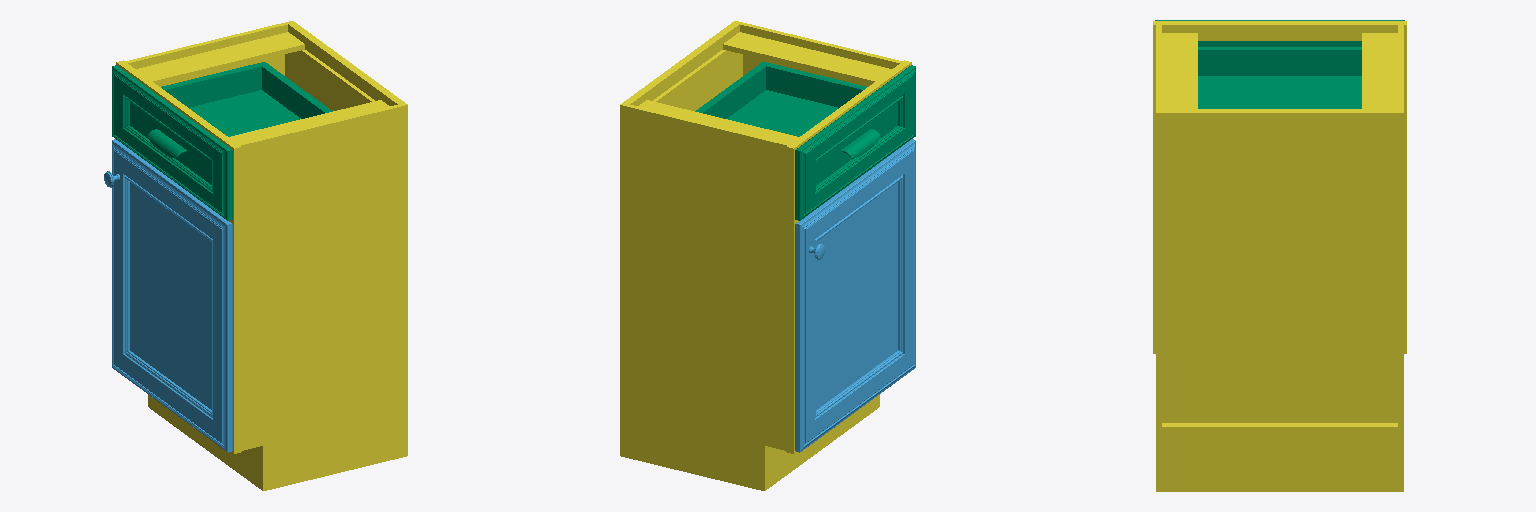
robot.urdf — partnet_2bda2392d5715d16c59350d819542ec7:
<?xml version="1.0" ?>
<robot name="partnet_2bda2392d5715d16c59350d819542ec7">
	<link name="base"/>
	<link name="link_0">
		<visual name="cabinet_door_surface-14">
			<origin xyz="-0.45054851447681477 -0.3763149976730347 -0.3973950893027823"/>
			<geometry>
				<mesh filename="textured_objs/original-56.obj"/>
			</geometry>
		</visual>
		<visual name="cabinet_door_surface-14">
			<origin xyz="-0.45054851447681477 -0.3763149976730347 -0.3973950893027823"/>
			<geometry>
				<mesh filename="textured_objs/original-51.obj"/>
			</geometry>
		</visual>
		<visual name="cabinet_door_surface-14">
			<origin xyz="-0.45054851447681477 -0.3763149976730347 -0.3973950893027823"/>
			<geometry>
				<mesh filename="textured_objs/original-47.obj"/>
			</geometry>
		</visual>
		<visual name="cabinet_door_surface-14">
			<origin xyz="-0.45054851447681477 -0.3763149976730347 -0.3973950893027823"/>
			<geometry>
				<mesh filename="textured_objs/original-53.obj"/>
			</geometry>
		</visual>
		<visual name="cabinet_door_surface-14">
			<origin xyz="-0.45054851447681477 -0.3763149976730347 -0.3973950893027823"/>
			<geometry>
				<mesh filename="textured_objs/original-50.obj"/>
			</geometry>
		</visual>
		<visual name="cabinet_door_surface-14">
			<origin xyz="-0.45054851447681477 -0.3763149976730347 -0.3973950893027823"/>
			<geometry>
				<mesh filename="textured_objs/original-52.obj"/>
			</geometry>
		</visual>
		<visual name="cabinet_door_surface-14">
			<origin xyz="-0.45054851447681477 -0.3763149976730347 -0.3973950893027823"/>
			<geometry>
				<mesh filename="textured_objs/original-49.obj"/>
			</geometry>
		</visual>
		<visual name="cabinet_door_surface-14">
			<origin xyz="-0.45054851447681477 -0.3763149976730347 -0.3973950893027823"/>
			<geometry>
				<mesh filename="textured_objs/original-54.obj"/>
			</geometry>
		</visual>
		<visual name="cabinet_door_surface-14">
			<origin xyz="-0.45054851447681477 -0.3763149976730347 -0.3973950893027823"/>
			<geometry>
				<mesh filename="textured_objs/original-48.obj"/>
			</geometry>
		</visual>
		<visual name="cabinet_door_surface-14">
			<origin xyz="-0.45054851447681477 -0.3763149976730347 -0.3973950893027823"/>
			<geometry>
				<mesh filename="textured_objs/original-57.obj"/>
			</geometry>
		</visual>
		<visual name="handle-15">
			<origin xyz="-0.45054851447681477 -0.3763149976730347 -0.3973950893027823"/>
			<geometry>
				<mesh filename="textured_objs/original-58.obj"/>
			</geometry>
		</visual>
		<collision>
			<origin xyz="-0.45054851447681477 -0.3763149976730347 -0.3973950893027823"/>
			<geometry>
				<mesh filename="textured_objs/original-56.obj"/>
			</geometry>
		</collision>
		<collision>
			<origin xyz="-0.45054851447681477 -0.3763149976730347 -0.3973950893027823"/>
			<geometry>
				<mesh filename="textured_objs/original-51.obj"/>
			</geometry>
		</collision>
		<collision>
			<origin xyz="-0.45054851447681477 -0.3763149976730347 -0.3973950893027823"/>
			<geometry>
				<mesh filename="textured_objs/original-47.obj"/>
			</geometry>
		</collision>
		<collision>
			<origin xyz="-0.45054851447681477 -0.3763149976730347 -0.3973950893027823"/>
			<geometry>
				<mesh filename="textured_objs/original-53.obj"/>
			</geometry>
		</collision>
		<collision>
			<origin xyz="-0.45054851447681477 -0.3763149976730347 -0.3973950893027823"/>
			<geometry>
				<mesh filename="textured_objs/original-50.obj"/>
			</geometry>
		</collision>
		<collision>
			<origin xyz="-0.45054851447681477 -0.3763149976730347 -0.3973950893027823"/>
			<geometry>
				<mesh filename="textured_objs/original-52.obj"/>
			</geometry>
		</collision>
		<collision>
			<origin xyz="-0.45054851447681477 -0.3763149976730347 -0.3973950893027823"/>
			<geometry>
				<mesh filename="textured_objs/original-49.obj"/>
			</geometry>
		</collision>
		<collision>
			<origin xyz="-0.45054851447681477 -0.3763149976730347 -0.3973950893027823"/>
			<geometry>
				<mesh filename="textured_objs/original-54.obj"/>
			</geometry>
		</collision>
		<collision>
			<origin xyz="-0.45054851447681477 -0.3763149976730347 -0.3973950893027823"/>
			<geometry>
				<mesh filename="textured_objs/original-48.obj"/>
			</geometry>
		</collision>
		<collision>
			<origin xyz="-0.45054851447681477 -0.3763149976730347 -0.3973950893027823"/>
			<geometry>
				<mesh filename="textured_objs/original-57.obj"/>
			</geometry>
		</collision>
		<collision>
			<origin xyz="-0.45054851447681477 -0.3763149976730347 -0.3973950893027823"/>
			<geometry>
				<mesh filename="textured_objs/original-58.obj"/>
			</geometry>
		</collision>
	</link>
	<joint name="joint_0" type="revolute">
		<origin xyz="0.45054851447681477 0.3763149976730347 0.3973950893027823"/>
		<axis xyz="0 1 0"/>
		<child link="link_0"/>
		<parent link="link_2"/>
		<limit lower="0.0" upper="1.5833626974092556"/>
	</joint>
	<link name="link_1">
		<visual name="drawer_front-8">
			<origin xyz="-0.013481296641048135 -0.5093325057985153 0.3759100139141085"/>
			<geometry>
				<mesh filename="textured_objs/original-43.obj"/>
			</geometry>
		</visual>
		<visual name="drawer_front-8">
			<origin xyz="-0.013481296641048135 -0.5093325057985153 0.3759100139141085"/>
			<geometry>
				<mesh filename="textured_objs/original-38.obj"/>
			</geometry>
		</visual>
		<visual name="drawer_front-8">
			<origin xyz="-0.013481296641048135 -0.5093325057985153 0.3759100139141085"/>
			<geometry>
				<mesh filename="textured_objs/original-40.obj"/>
			</geometry>
		</visual>
		<visual name="drawer_front-8">
			<origin xyz="-0.013481296641048135 -0.5093325057985153 0.3759100139141085"/>
			<geometry>
				<mesh filename="textured_objs/original-34.obj"/>
			</geometry>
		</visual>
		<visual name="drawer_front-8">
			<origin xyz="-0.013481296641048135 -0.5093325057985153 0.3759100139141085"/>
			<geometry>
				<mesh filename="textured_objs/original-37.obj"/>
			</geometry>
		</visual>
		<visual name="drawer_front-8">
			<origin xyz="-0.013481296641048135 -0.5093325057985153 0.3759100139141085"/>
			<geometry>
				<mesh filename="textured_objs/original-39.obj"/>
			</geometry>
		</visual>
		<visual name="drawer_front-8">
			<origin xyz="-0.013481296641048135 -0.5093325057985153 0.3759100139141085"/>
			<geometry>
				<mesh filename="textured_objs/original-36.obj"/>
			</geometry>
		</visual>
		<visual name="drawer_front-8">
			<origin xyz="-0.013481296641048135 -0.5093325057985153 0.3759100139141085"/>
			<geometry>
				<mesh filename="textured_objs/original-41.obj"/>
			</geometry>
		</visual>
		<visual name="drawer_front-8">
			<origin xyz="-0.013481296641048135 -0.5093325057985153 0.3759100139141085"/>
			<geometry>
				<mesh filename="textured_objs/original-35.obj"/>
			</geometry>
		</visual>
		<visual name="drawer_front-8">
			<origin xyz="-0.013481296641048135 -0.5093325057985153 0.3759100139141085"/>
			<geometry>
				<mesh filename="textured_objs/original-26.obj"/>
			</geometry>
		</visual>
		<visual name="drawer_front-8">
			<origin xyz="-0.013481296641048135 -0.5093325057985153 0.3759100139141085"/>
			<geometry>
				<mesh filename="textured_objs/original-44.obj"/>
			</geometry>
		</visual>
		<visual name="drawer_side-9">
			<origin xyz="-0.013481296641048135 -0.5093325057985153 0.3759100139141085"/>
			<geometry>
				<mesh filename="textured_objs/original-32.obj"/>
			</geometry>
		</visual>
		<visual name="drawer_side-9">
			<origin xyz="-0.013481296641048135 -0.5093325057985153 0.3759100139141085"/>
			<geometry>
				<mesh filename="textured_objs/original-30.obj"/>
			</geometry>
		</visual>
		<visual name="drawer_side-10">
			<origin xyz="-0.013481296641048135 -0.5093325057985153 0.3759100139141085"/>
			<geometry>
				<mesh filename="textured_objs/original-25.obj"/>
			</geometry>
		</visual>
		<visual name="drawer_back-11">
			<origin xyz="-0.013481296641048135 -0.5093325057985153 0.3759100139141085"/>
			<geometry>
				<mesh filename="textured_objs/original-31.obj"/>
			</geometry>
		</visual>
		<visual name="drawer_bottom-12">
			<origin xyz="-0.013481296641048135 -0.5093325057985153 0.3759100139141085"/>
			<geometry>
				<mesh filename="textured_objs/original-29.obj"/>
			</geometry>
		</visual>
		<visual name="drawer_bottom-12">
			<origin xyz="-0.013481296641048135 -0.5093325057985153 0.3759100139141085"/>
			<geometry>
				<mesh filename="textured_objs/original-28.obj"/>
			</geometry>
		</visual>
		<visual name="handle-13">
			<origin xyz="-0.013481296641048135 -0.5093325057985153 0.3759100139141085"/>
			<geometry>
				<mesh filename="textured_objs/original-45.obj"/>
			</geometry>
		</visual>
		<collision>
			<origin xyz="-0.013481296641048135 -0.5093325057985153 0.3759100139141085"/>
			<geometry>
				<mesh filename="textured_objs/original-43.obj"/>
			</geometry>
		</collision>
		<collision>
			<origin xyz="-0.013481296641048135 -0.5093325057985153 0.3759100139141085"/>
			<geometry>
				<mesh filename="textured_objs/original-38.obj"/>
			</geometry>
		</collision>
		<collision>
			<origin xyz="-0.013481296641048135 -0.5093325057985153 0.3759100139141085"/>
			<geometry>
				<mesh filename="textured_objs/original-40.obj"/>
			</geometry>
		</collision>
		<collision>
			<origin xyz="-0.013481296641048135 -0.5093325057985153 0.3759100139141085"/>
			<geometry>
				<mesh filename="textured_objs/original-34.obj"/>
			</geometry>
		</collision>
		<collision>
			<origin xyz="-0.013481296641048135 -0.5093325057985153 0.3759100139141085"/>
			<geometry>
				<mesh filename="textured_objs/original-37.obj"/>
			</geometry>
		</collision>
		<collision>
			<origin xyz="-0.013481296641048135 -0.5093325057985153 0.3759100139141085"/>
			<geometry>
				<mesh filename="textured_objs/original-39.obj"/>
			</geometry>
		</collision>
		<collision>
			<origin xyz="-0.013481296641048135 -0.5093325057985153 0.3759100139141085"/>
			<geometry>
				<mesh filename="textured_objs/original-36.obj"/>
			</geometry>
		</collision>
		<collision>
			<origin xyz="-0.013481296641048135 -0.5093325057985153 0.3759100139141085"/>
			<geometry>
				<mesh filename="textured_objs/original-41.obj"/>
			</geometry>
		</collision>
		<collision>
			<origin xyz="-0.013481296641048135 -0.5093325057985153 0.3759100139141085"/>
			<geometry>
				<mesh filename="textured_objs/original-35.obj"/>
			</geometry>
		</collision>
		<collision>
			<origin xyz="-0.013481296641048135 -0.5093325057985153 0.3759100139141085"/>
			<geometry>
				<mesh filename="textured_objs/original-26.obj"/>
			</geometry>
		</collision>
		<collision>
			<origin xyz="-0.013481296641048135 -0.5093325057985153 0.3759100139141085"/>
			<geometry>
				<mesh filename="textured_objs/original-44.obj"/>
			</geometry>
		</collision>
		<collision>
			<origin xyz="-0.013481296641048135 -0.5093325057985153 0.3759100139141085"/>
			<geometry>
				<mesh filename="textured_objs/original-32.obj"/>
			</geometry>
		</collision>
		<collision>
			<origin xyz="-0.013481296641048135 -0.5093325057985153 0.3759100139141085"/>
			<geometry>
				<mesh filename="textured_objs/original-30.obj"/>
			</geometry>
		</collision>
		<collision>
			<origin xyz="-0.013481296641048135 -0.5093325057985153 0.3759100139141085"/>
			<geometry>
				<mesh filename="textured_objs/original-25.obj"/>
			</geometry>
		</collision>
		<collision>
			<origin xyz="-0.013481296641048135 -0.5093325057985153 0.3759100139141085"/>
			<geometry>
				<mesh filename="textured_objs/original-31.obj"/>
			</geometry>
		</collision>
		<collision>
			<origin xyz="-0.013481296641048135 -0.5093325057985153 0.3759100139141085"/>
			<geometry>
				<mesh filename="textured_objs/original-29.obj"/>
			</geometry>
		</collision>
		<collision>
			<origin xyz="-0.013481296641048135 -0.5093325057985153 0.3759100139141085"/>
			<geometry>
				<mesh filename="textured_objs/original-28.obj"/>
			</geometry>
		</collision>
		<collision>
			<origin xyz="-0.013481296641048135 -0.5093325057985153 0.3759100139141085"/>
			<geometry>
				<mesh filename="textured_objs/original-45.obj"/>
			</geometry>
		</collision>
	</link>
	<joint name="joint_1" type="prismatic">
		<origin xyz="0.013481296641048135 0.5093325057985153 -0.3759100139141085"/>
		<axis xyz="0 0 1"/>
		<child link="link_1"/>
		<parent link="link_2"/>
		<limit lower="0" upper="0.532"/>
	</joint>
	<link name="link_2">
		<visual name="shelf-4">
			<origin xyz="0 0 0"/>
			<geometry>
				<mesh filename="textured_objs/original-2.obj"/>
			</geometry>
		</visual>
		<visual name="vertical_side_panel-21">
			<origin xyz="0 0 0"/>
			<geometry>
				<mesh filename="textured_objs/original-12.obj"/>
			</geometry>
		</visual>
		<visual name="vertical_side_panel-21">
			<origin xyz="0 0 0"/>
			<geometry>
				<mesh filename="textured_objs/original-11.obj"/>
			</geometry>
		</visual>
		<visual name="vertical_side_panel-22">
			<origin xyz="0 0 0"/>
			<geometry>
				<mesh filename="textured_objs/original-16.obj"/>
			</geometry>
		</visual>
		<visual name="vertical_side_panel-22">
			<origin xyz="0 0 0"/>
			<geometry>
				<mesh filename="textured_objs/original-15.obj"/>
			</geometry>
		</visual>
		<visual name="back_panel-23">
			<origin xyz="0 0 0"/>
			<geometry>
				<mesh filename="textured_objs/original-6.obj"/>
			</geometry>
		</visual>
		<visual name="bottom_panel-24">
			<origin xyz="0 0 0"/>
			<geometry>
				<mesh filename="textured_objs/original-3.obj"/>
			</geometry>
		</visual>
		<visual name="frame_vertical_bar-25">
			<origin xyz="0 0 0"/>
			<geometry>
				<mesh filename="textured_objs/original-4.obj"/>
			</geometry>
		</visual>
		<visual name="frame_vertical_bar-26">
			<origin xyz="0 0 0"/>
			<geometry>
				<mesh filename="textured_objs/original-8.obj"/>
			</geometry>
		</visual>
		<visual name="frame_horizontal_bar-27">
			<origin xyz="0 0 0"/>
			<geometry>
				<mesh filename="textured_objs/original-9.obj"/>
			</geometry>
		</visual>
		<visual name="frame_horizontal_bar-28">
			<origin xyz="0 0 0"/>
			<geometry>
				<mesh filename="textured_objs/original-18.obj"/>
			</geometry>
		</visual>
		<visual name="frame_horizontal_bar-29">
			<origin xyz="0 0 0"/>
			<geometry>
				<mesh filename="textured_objs/original-7.obj"/>
			</geometry>
		</visual>
		<visual name="frame_horizontal_bar-30">
			<origin xyz="0 0 0"/>
			<geometry>
				<mesh filename="textured_objs/original-22.obj"/>
			</geometry>
		</visual>
		<visual name="frame_horizontal_bar-31">
			<origin xyz="0 0 0"/>
			<geometry>
				<mesh filename="textured_objs/original-21.obj"/>
			</geometry>
		</visual>
		<visual name="frame_horizontal_bar-32">
			<origin xyz="0 0 0"/>
			<geometry>
				<mesh filename="textured_objs/original-5.obj"/>
			</geometry>
		</visual>
		<visual name="other_leaf-34">
			<origin xyz="0 0 0"/>
			<geometry>
				<mesh filename="textured_objs/original-59.obj"/>
			</geometry>
		</visual>
		<visual name="base_side_panel-17">
			<origin xyz="0 0 0"/>
			<geometry>
				<mesh filename="textured_objs/original-13.obj"/>
			</geometry>
		</visual>
		<visual name="base_side_panel-18">
			<origin xyz="0 0 0"/>
			<geometry>
				<mesh filename="textured_objs/original-19.obj"/>
			</geometry>
		</visual>
		<visual name="base_side_panel-19">
			<origin xyz="0 0 0"/>
			<geometry>
				<mesh filename="textured_objs/original-17.obj"/>
			</geometry>
		</visual>
		<visual name="base_side_panel-20">
			<origin xyz="0 0 0"/>
			<geometry>
				<mesh filename="textured_objs/original-20.obj"/>
			</geometry>
		</visual>
		<collision>
			<origin xyz="0 0 0"/>
			<geometry>
				<mesh filename="textured_objs/original-2.obj"/>
			</geometry>
		</collision>
		<collision>
			<origin xyz="0 0 0"/>
			<geometry>
				<mesh filename="textured_objs/original-12.obj"/>
			</geometry>
		</collision>
		<collision>
			<origin xyz="0 0 0"/>
			<geometry>
				<mesh filename="textured_objs/original-11.obj"/>
			</geometry>
		</collision>
		<collision>
			<origin xyz="0 0 0"/>
			<geometry>
				<mesh filename="textured_objs/original-16.obj"/>
			</geometry>
		</collision>
		<collision>
			<origin xyz="0 0 0"/>
			<geometry>
				<mesh filename="textured_objs/original-15.obj"/>
			</geometry>
		</collision>
		<collision>
			<origin xyz="0 0 0"/>
			<geometry>
				<mesh filename="textured_objs/original-6.obj"/>
			</geometry>
		</collision>
		<collision>
			<origin xyz="0 0 0"/>
			<geometry>
				<mesh filename="textured_objs/original-3.obj"/>
			</geometry>
		</collision>
		<collision>
			<origin xyz="0 0 0"/>
			<geometry>
				<mesh filename="textured_objs/original-4.obj"/>
			</geometry>
		</collision>
		<collision>
			<origin xyz="0 0 0"/>
			<geometry>
				<mesh filename="textured_objs/original-8.obj"/>
			</geometry>
		</collision>
		<collision>
			<origin xyz="0 0 0"/>
			<geometry>
				<mesh filename="textured_objs/original-9.obj"/>
			</geometry>
		</collision>
		<collision>
			<origin xyz="0 0 0"/>
			<geometry>
				<mesh filename="textured_objs/original-18.obj"/>
			</geometry>
		</collision>
		<collision>
			<origin xyz="0 0 0"/>
			<geometry>
				<mesh filename="textured_objs/original-7.obj"/>
			</geometry>
		</collision>
		<collision>
			<origin xyz="0 0 0"/>
			<geometry>
				<mesh filename="textured_objs/original-22.obj"/>
			</geometry>
		</collision>
		<collision>
			<origin xyz="0 0 0"/>
			<geometry>
				<mesh filename="textured_objs/original-21.obj"/>
			</geometry>
		</collision>
		<collision>
			<origin xyz="0 0 0"/>
			<geometry>
				<mesh filename="textured_objs/original-5.obj"/>
			</geometry>
		</collision>
		<collision>
			<origin xyz="0 0 0"/>
			<geometry>
				<mesh filename="textured_objs/original-59.obj"/>
			</geometry>
		</collision>
		<collision>
			<origin xyz="0 0 0"/>
			<geometry>
				<mesh filename="textured_objs/original-13.obj"/>
			</geometry>
		</collision>
		<collision>
			<origin xyz="0 0 0"/>
			<geometry>
				<mesh filename="textured_objs/original-19.obj"/>
			</geometry>
		</collision>
		<collision>
			<origin xyz="0 0 0"/>
			<geometry>
				<mesh filename="textured_objs/original-17.obj"/>
			</geometry>
		</collision>
		<collision>
			<origin xyz="0 0 0"/>
			<geometry>
				<mesh filename="textured_objs/original-20.obj"/>
			</geometry>
		</collision>
	</link>
	<joint name="joint_2" type="fixed">
		<origin rpy="1.570796326794897 0 -1.570796326794897" xyz="0 0 0"/>
		<child link="link_2"/>
		<parent link="base"/>
	</joint>
</robot>

--- Facts derived from the render (not from the file) ---
3 views of the same robot in one strip: view 1: azimuth 30°, elevation 25°; view 2: azimuth 150°, elevation 25°; view 3: azimuth 270°, elevation 25° (orthographic).
Model partnet_2bda2392d5715d16c59350d819542ec7 with 4 links and 3 joints (1 revolute, 1 prismatic, 1 fixed), rooted at base, posed every joint at zero.
Visible links, largest first — view 1: link_2, link_0, link_1; view 2: link_2, link_0, link_1; view 3: link_2, link_1.
Boxes of the visible links, x1,y1,x2,y2 form: link_2: (116,21,407,490); link_0: (104,139,232,452); link_1: (112,62,332,220); link_2: (620,21,911,490); link_0: (795,139,915,452); link_1: (695,62,915,220); link_2: (1153,21,1406,491); link_1: (1155,20,1404,108).
Bounding box of the posed robot: 0.8986 × 0.9464 × 1.55 m (x, y, z).
49 mesh visuals loaded from 49 distinct referenced files (49 OBJ).
